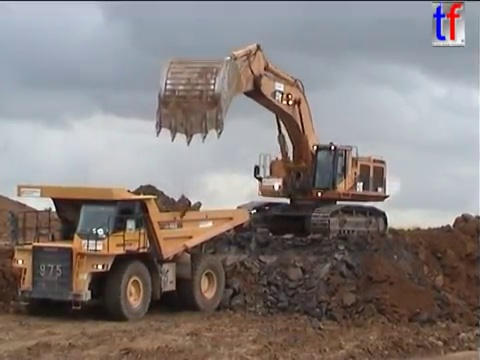excavator: (152, 40, 393, 246)
truck: (6, 182, 252, 322)
